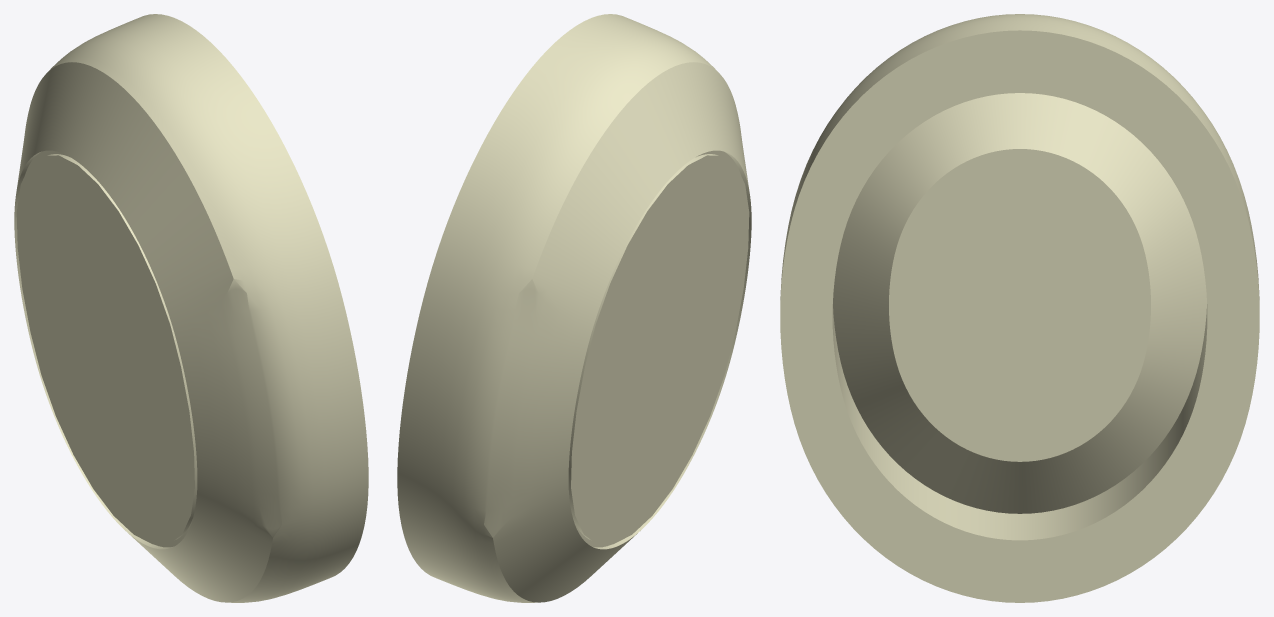
File: NoiréEarpieceWithoutJack.glb
The picture shows the model from 3 angles, left to right: view 1: azimuth 30°, elevation 25°; view 2: azimuth 150°, elevation 25°; view 3: azimuth 270°, elevation 25°; orthographic projection. The views are drawn at different scales.
Visible parts, largest first — view 1: Circle.006; view 2: Circle.006; view 3: Circle.006.
Boxes of the visible parts, box(x1,y1,x2,y2) form: Circle.006: box(14, 14, 368, 602); Circle.006: box(397, 14, 751, 602); Circle.006: box(780, 14, 1259, 602).
Bounding box in the file's own units: 0.9002 × 2.41 × 1.94.
